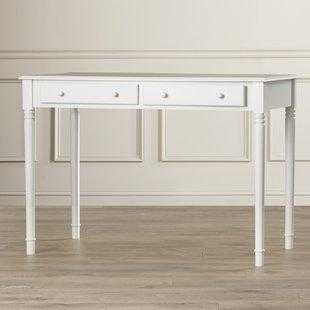obstacle: (21, 75, 299, 269)
